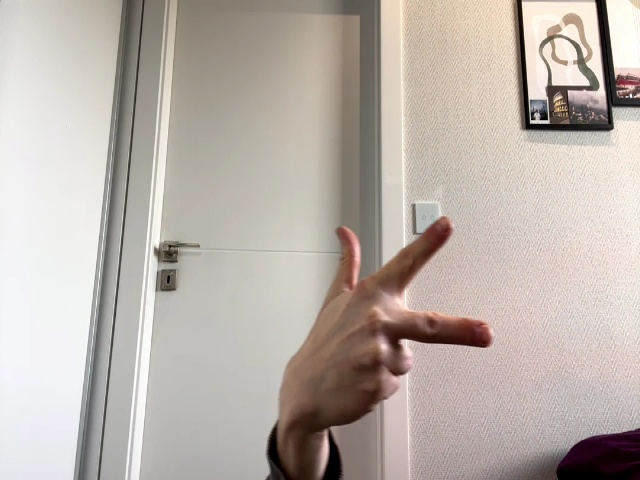K: (292, 218, 493, 425)
